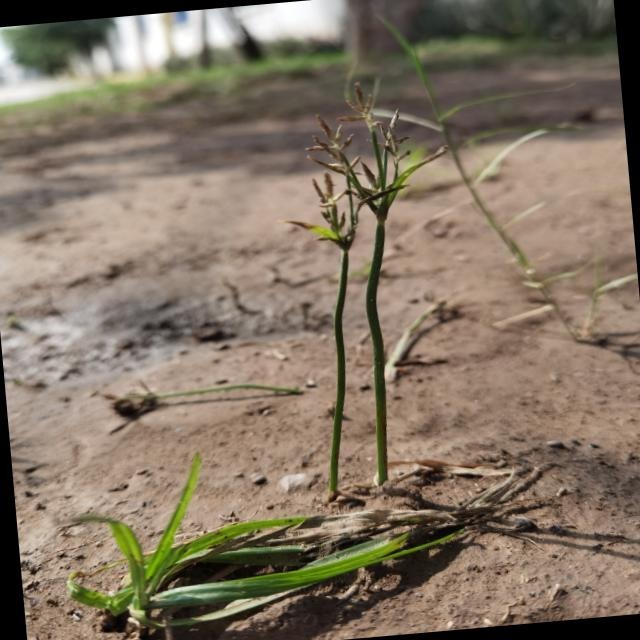cyperus: (262, 67, 460, 260)
